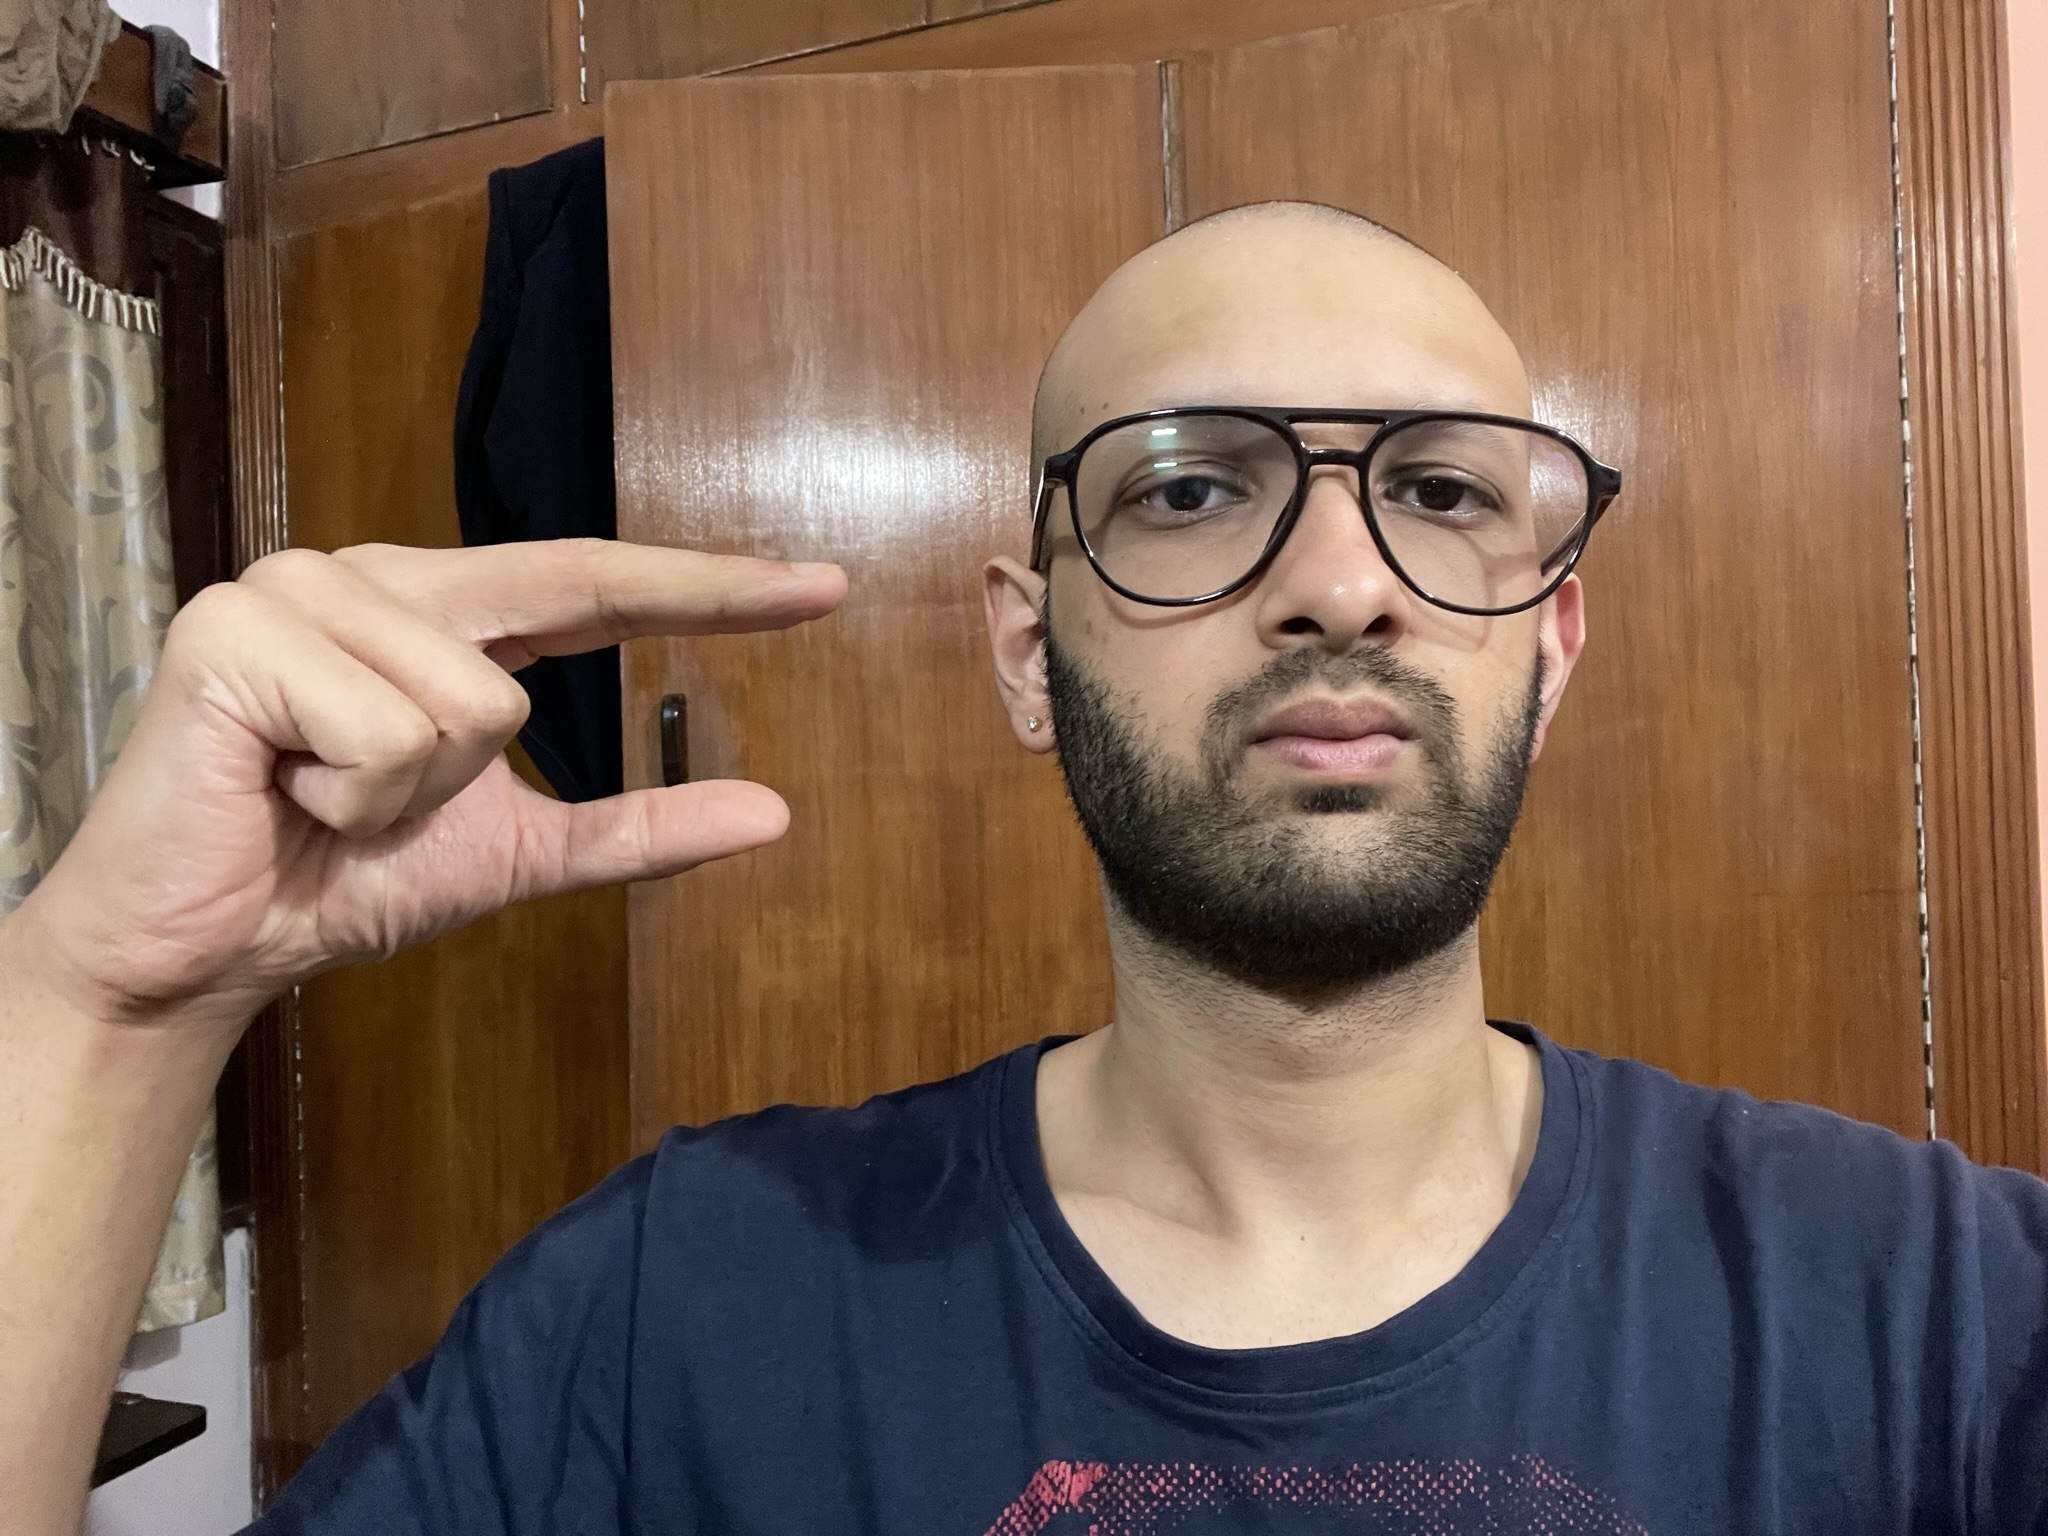No: (63, 532, 860, 1000)
